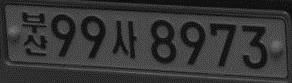3: (240, 23, 268, 70)
7: (209, 22, 237, 68)
8: (149, 17, 176, 65)
9: (179, 19, 206, 65), (50, 12, 76, 58), (79, 14, 106, 58)
부산_V: (21, 10, 48, 56)
사: (111, 19, 138, 59)
